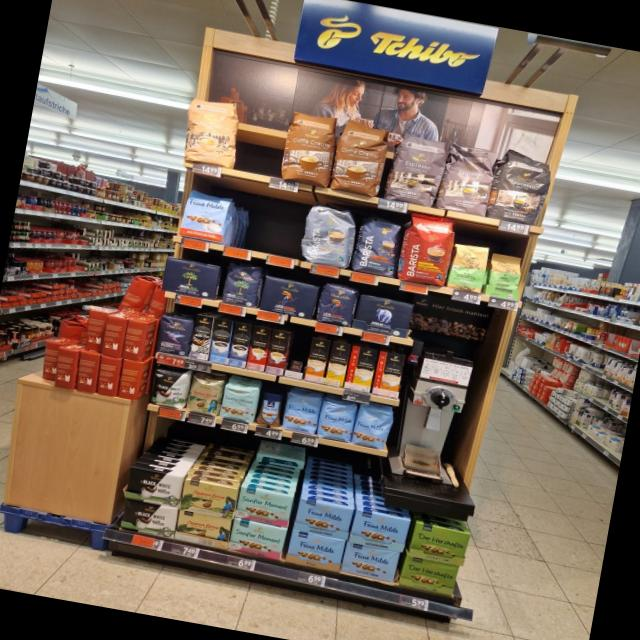AB Gemahlen: (353, 292, 415, 338)
Athiopien Bohne: (484, 251, 525, 301)
Athiopien Gemahlen: (446, 241, 491, 295)
BM Bohne: (220, 260, 264, 309)
BM Gemahlen: (160, 257, 221, 301)
BW Bohne: (147, 366, 190, 410)
BW Gemahlen: (120, 497, 179, 540), (123, 465, 183, 507)
Barista CC: (298, 202, 360, 270)
Barista Espresso: (350, 210, 406, 278)
Barista Kolumbien: (397, 212, 458, 288)
C Fino Bohne: (154, 314, 194, 358)
CC Mild: (180, 95, 242, 168)
CC Vollmundig 36 Pads: (330, 118, 390, 198), (280, 108, 340, 187)
Colombia BB Bohne: (184, 374, 224, 418)
Colombia BB Gemahlen: (178, 478, 238, 520), (173, 510, 233, 551)
Empty Shelf: (227, 193, 307, 258), (232, 102, 292, 176), (284, 330, 310, 372)
Espresso Kraftig: (492, 146, 556, 226)
Espresso M Art: (383, 132, 448, 208), (438, 142, 498, 216)
FM 36 Pads: (178, 186, 232, 243)
FM Bohne: (352, 402, 395, 450), (280, 389, 322, 436), (318, 398, 358, 442)
FM Gemahlen: (348, 508, 411, 554), (294, 496, 354, 540), (286, 530, 346, 572), (340, 542, 400, 582)
FM Instant: (254, 388, 286, 428)
Herzhatfe Mundig: (408, 521, 471, 567), (399, 555, 460, 596)
LG Bohne: (314, 280, 359, 328)
LG Gemahlen: (258, 274, 319, 320)
SM Bohne: (218, 380, 260, 424)
SM Gemahlen: (228, 517, 288, 560), (234, 486, 293, 528)
Simo CCMild: (344, 344, 377, 392)
Simo CCMild bigpack: (324, 341, 350, 386)
Simo CCVollmundig: (372, 350, 404, 398)
Simo CCVollmundig bigpack: (304, 336, 330, 384)
Simo Es Brazil: (246, 324, 272, 372)
Simo Es Caramel: (264, 328, 290, 375)
Simo Es Elegant: (188, 313, 215, 360)
Simo Es Kraft: (227, 322, 252, 368)
Simo Es Vanilla: (207, 317, 234, 364)
